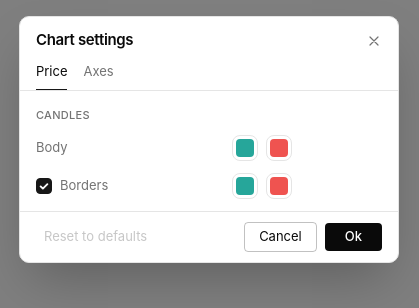
ChartSettingsDialog › enables reset as soon as a control deviates, without leaving the dialog
Expected: the button "Reset to defaults" is disabled, [36,223,155,250]
Click the button "Axes" at (99, 76), box [84,60,114,90]
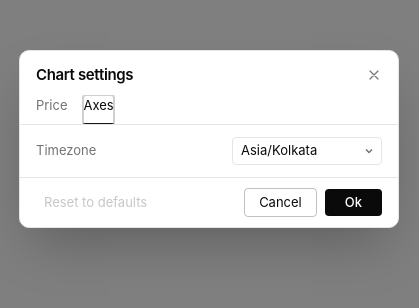
Select "America/New_York" in the dropdown labelled "Timezone" at (307, 151), box [232,137,382,165]
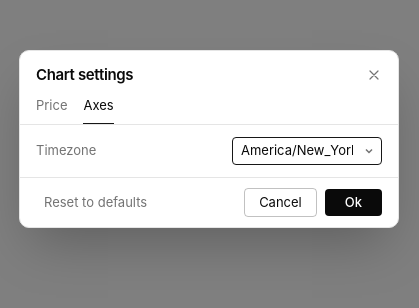
Now the button "Reset to defaults" is enabled, box [36,189,155,216]
